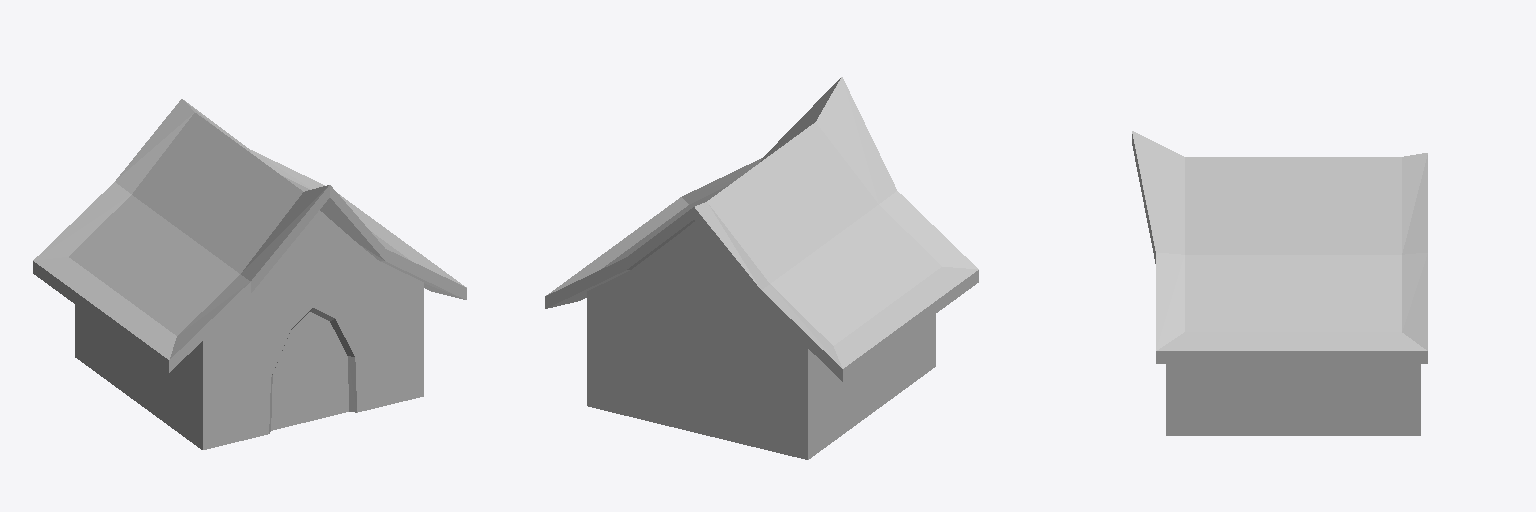
Rendered from house.obj.
3 views of the same model, side by side, from view 1: azimuth 30°, elevation 25°; view 2: azimuth 150°, elevation 25°; view 3: azimuth 270°, elevation 25° (orthographic).
Parts seen in each view (by area): view 1: Cube; view 2: Cube; view 3: Cube.
Boxes of the visible parts, x1,y1,x2,y2 form: Cube: [33, 99, 466, 449]; Cube: [545, 77, 978, 459]; Cube: [1132, 131, 1427, 435].
Bounding box in the file's own units: 2.35 × 1.9 × 2.03.